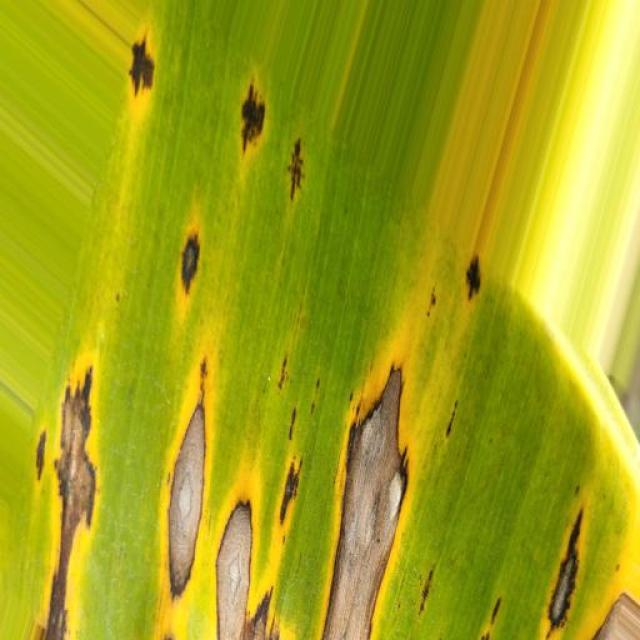Early_rust: (0, 39, 594, 640)
